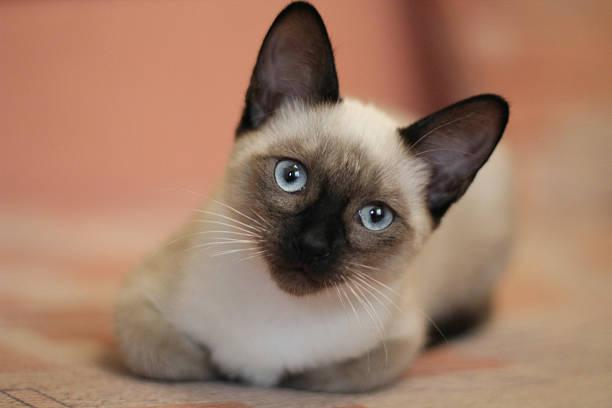siamese: (220, 1, 523, 306)
